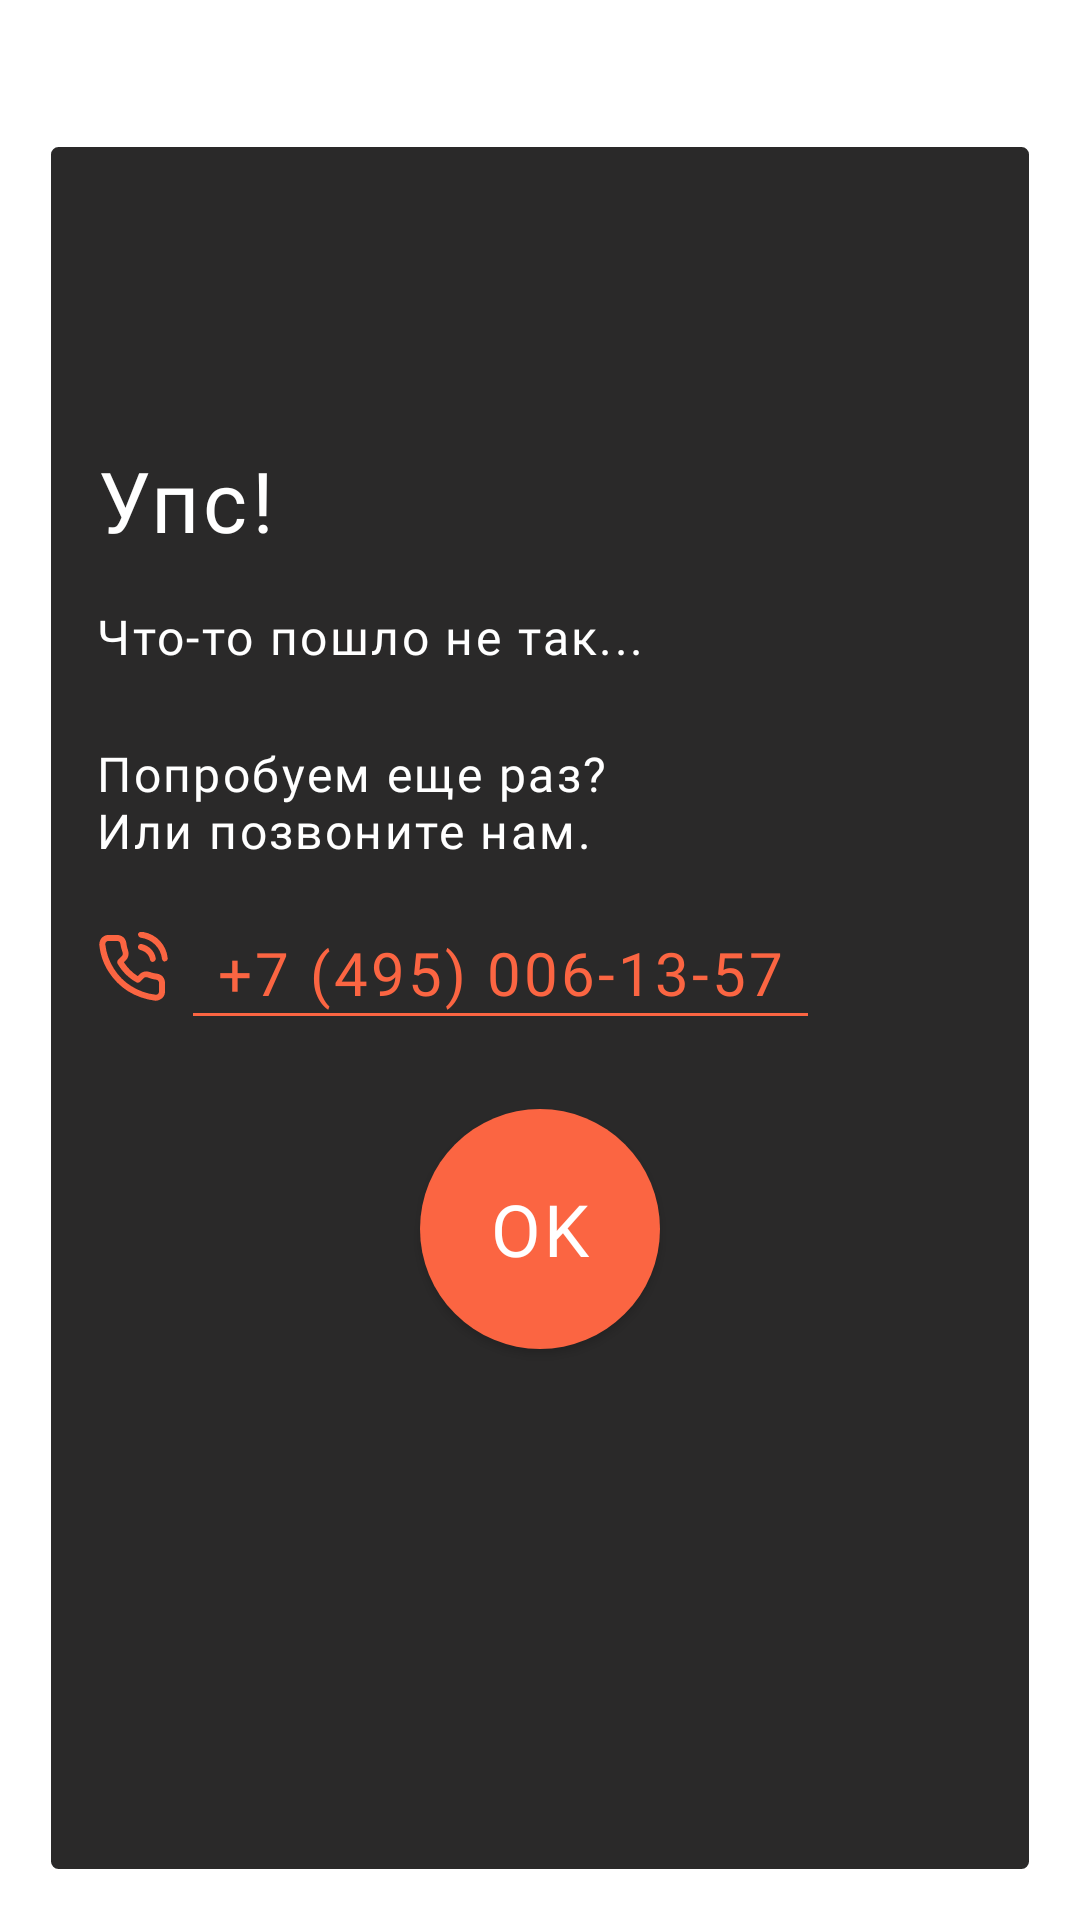

Icons on this 1080px×1920px Android screen, each with the point to tap as (x=x, y=y):
phone call: (x=133, y=966)
